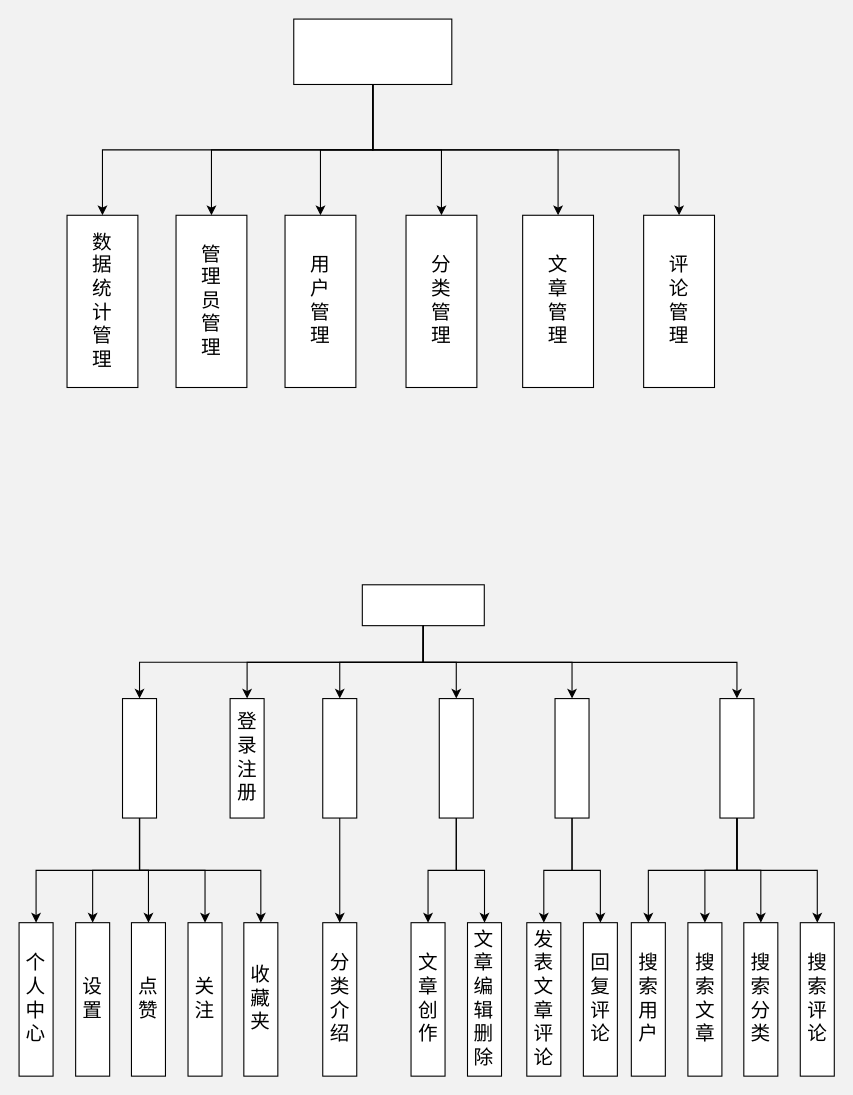
The diagram is 853 pixels wide and 1095 high, and some of its shapes have lost their labels. The shapes that lost their labels are listed below. From the top down, each one's centre as x and y in pixels, then its label:
At pixel 372 51: "平台管理系统".
At pixel 422 605: "平台客户端".
At pixel 139 757: "用 户 模 块".
At pixel 339 757: "分 类 模 块".
At pixel 455 757: "文 章 模 块".
At pixel 571 757: "评 论 模 块".
At pixel 736 757: "搜 索 模 块".
